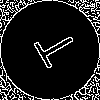T: (25, 25, 80, 75)
